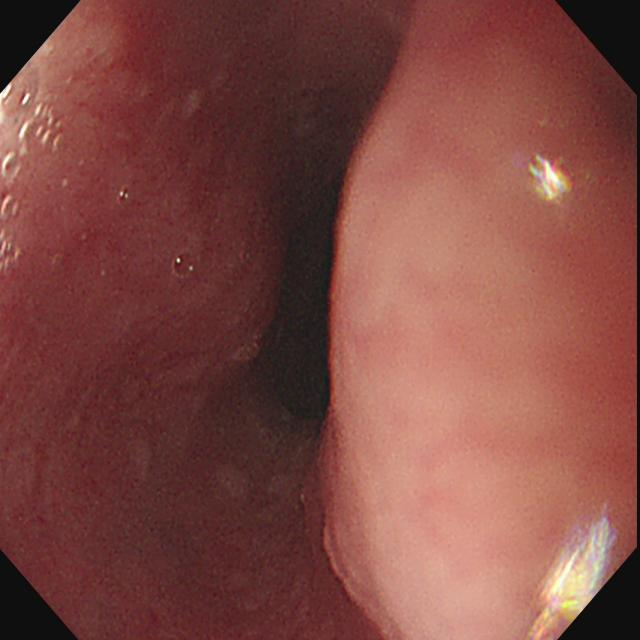E: (236, 125, 377, 425)
T: (2, 61, 66, 279), (173, 251, 202, 280), (114, 183, 135, 205)
U: (526, 509, 619, 640), (529, 152, 576, 208)
